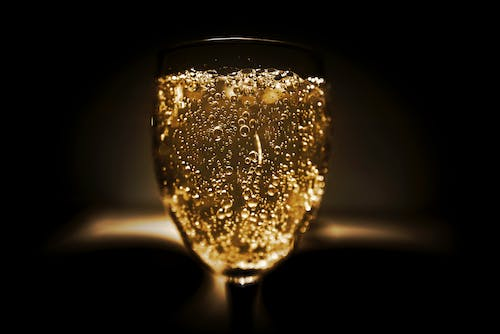alcohol: (149, 35, 336, 334)
